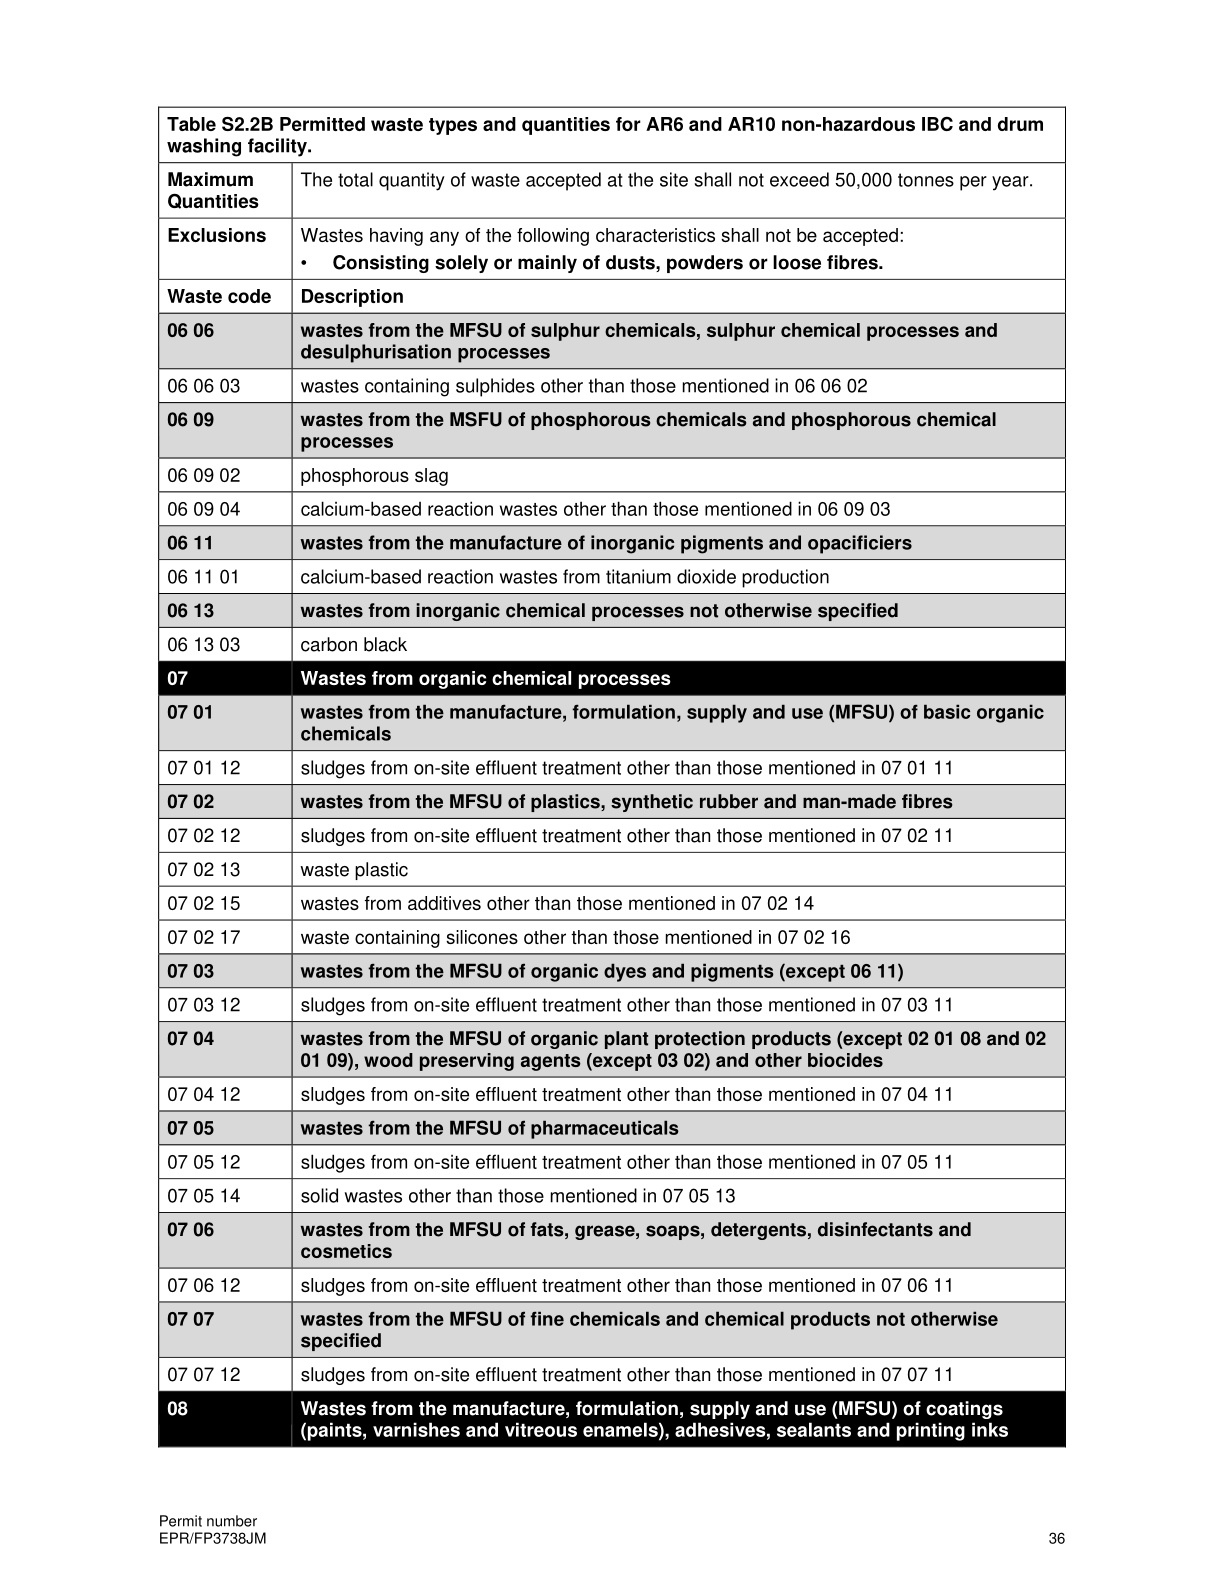merged_cells: (157, 105, 1067, 1449)
